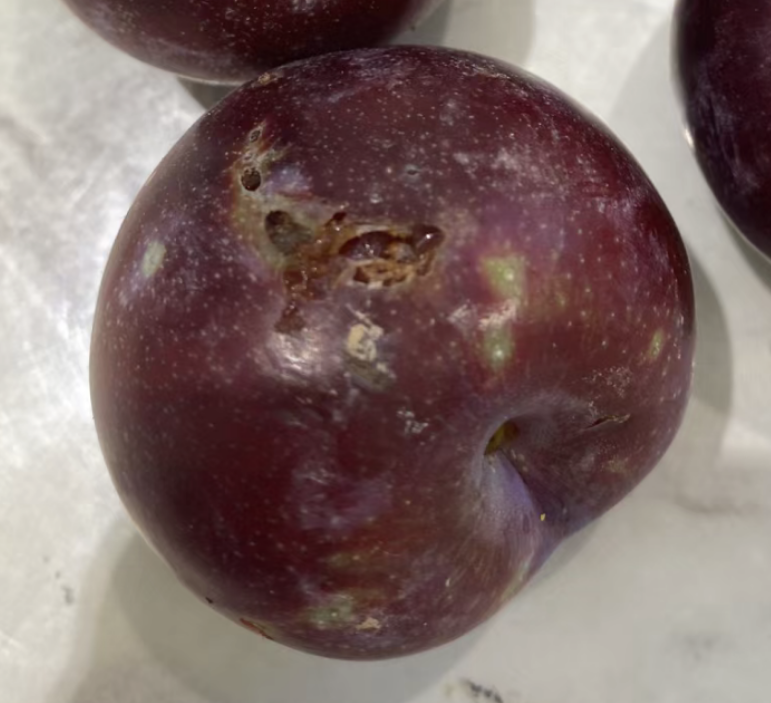plum_C: (90, 40, 695, 661)
